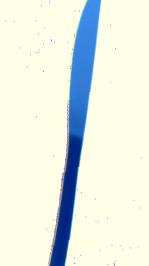Knife: (48, 1, 105, 266)
